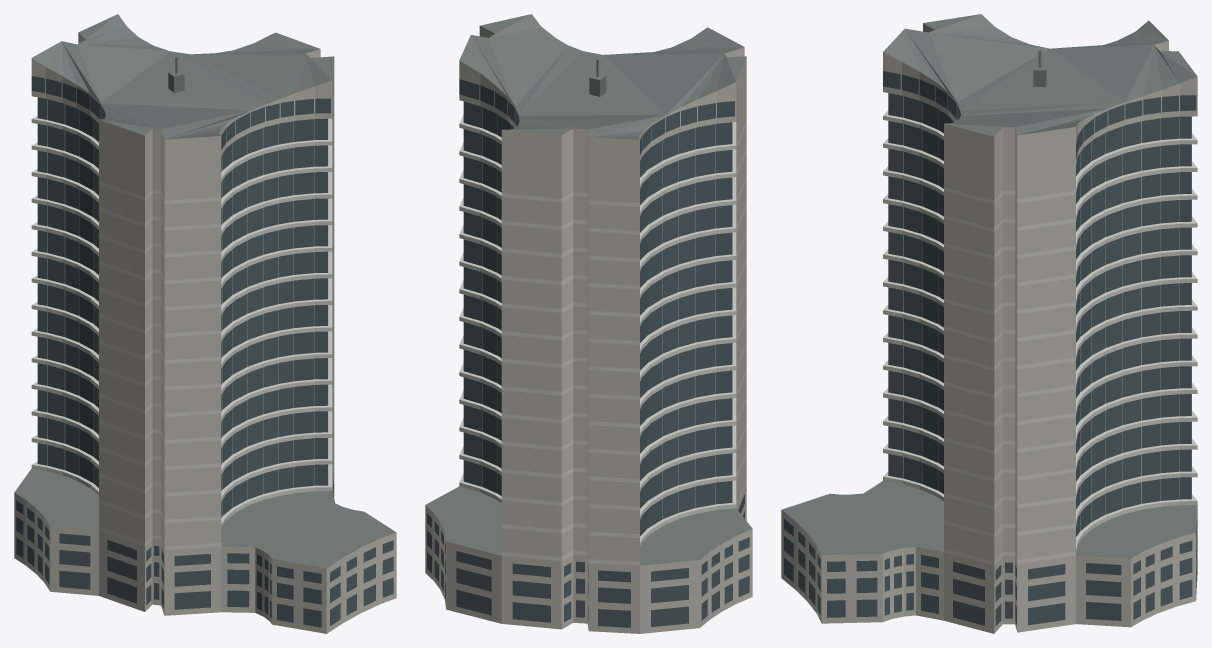
The model's file is intercontinental-bucharest-far.glb.
3 views of the same model, side by side, from view 1: azimuth 30°, elevation 25°; view 2: azimuth 150°, elevation 25°; view 3: azimuth 270°, elevation 25° (orthographic). The views are drawn at different scales.
Parts seen in each view (by area): view 1: intercontinental-bucharest-0-stone, intercontinental-bucharest-0-glass, intercontinental-bucharest-0-roof, intercontinental-bucharest-0-balcony; view 2: intercontinental-bucharest-0-stone, intercontinental-bucharest-0-glass, intercontinental-bucharest-0-roof, intercontinental-bucharest-0-balcony; view 3: intercontinental-bucharest-0-stone, intercontinental-bucharest-0-glass, intercontinental-bucharest-0-roof, intercontinental-bucharest-0-balcony.
Part boxes in pixels (x1,y1,x2,y2): intercontinental-bucharest-0-stone: (14,33,396,633); intercontinental-bucharest-0-glass: (16,76,393,627); intercontinental-bucharest-0-roof: (14,14,396,568); intercontinental-bucharest-0-balcony: (31,116,334,549); intercontinental-bucharest-0-stone: (425,26,752,633); intercontinental-bucharest-0-glass: (427,79,749,627); intercontinental-bucharest-0-roof: (425,14,752,565); intercontinental-bucharest-0-balcony: (459,115,746,565); intercontinental-bucharest-0-stone: (781,23,1197,633); intercontinental-bucharest-0-glass: (784,71,1197,625); intercontinental-bucharest-0-roof: (782,14,1197,558); intercontinental-bucharest-0-balcony: (883,110,1197,565).
Size of the model in its own units: 52.25 by 90 by 66.
